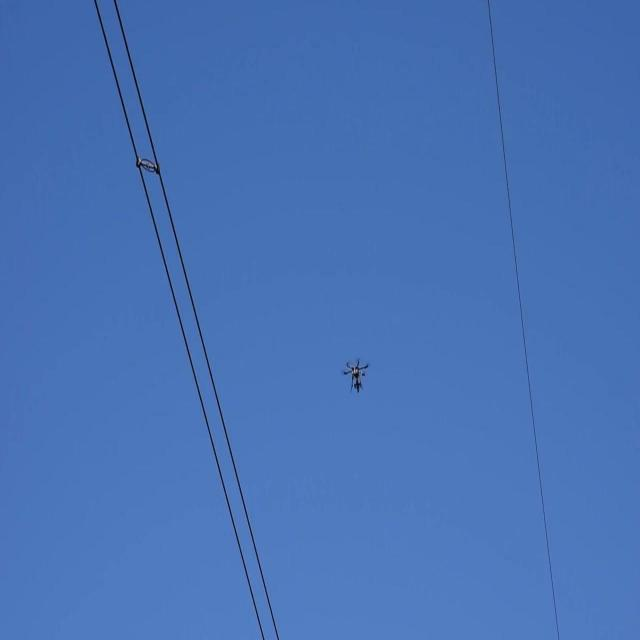UAV: (340, 358, 370, 393)
